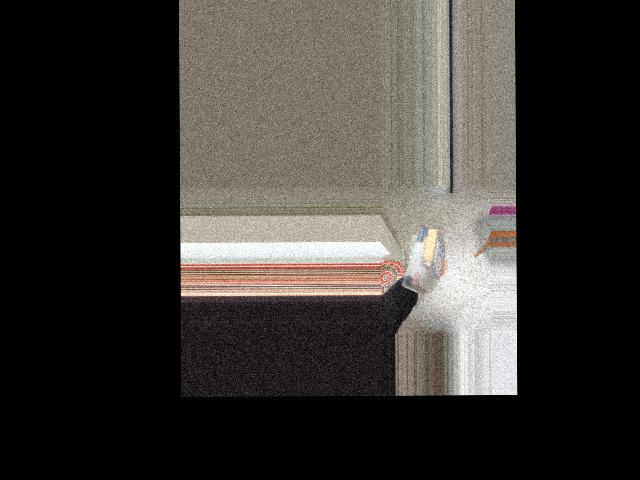cheese: (396, 222, 445, 292)
